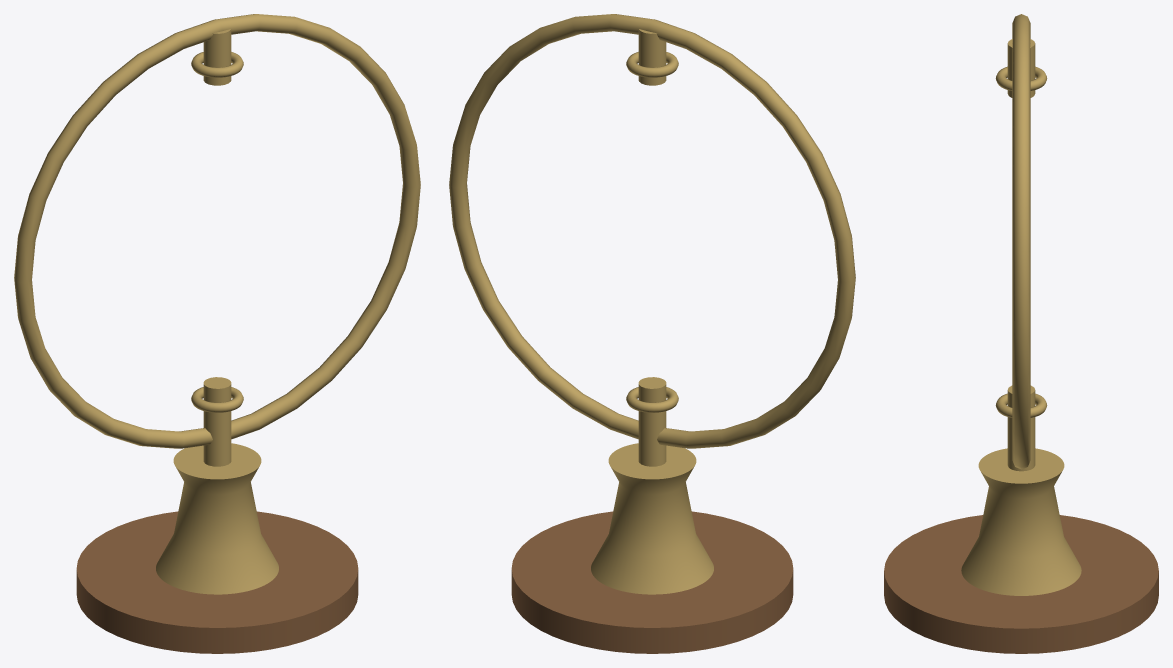
File: fantasy-cartographers-map-printing-guild-globe-meridia-d98a227b__32270.glb
3 views of the same model, side by side, from view 1: azimuth 30°, elevation 25°; view 2: azimuth 150°, elevation 25°; view 3: azimuth 270°, elevation 25° (orthographic). The views are drawn at different scales.
Visible parts, largest first — view 1: globe-meridian-support; view 2: globe-meridian-support; view 3: globe-meridian-support.
Boxes of the visible parts, <box> form: globe-meridian-support: <box>14,14,420,653</box>; globe-meridian-support: <box>449,14,855,653</box>; globe-meridian-support: <box>884,14,1158,653</box>.
Bounding box in the file's own units: 1.06 × 1.44 × 0.64.
